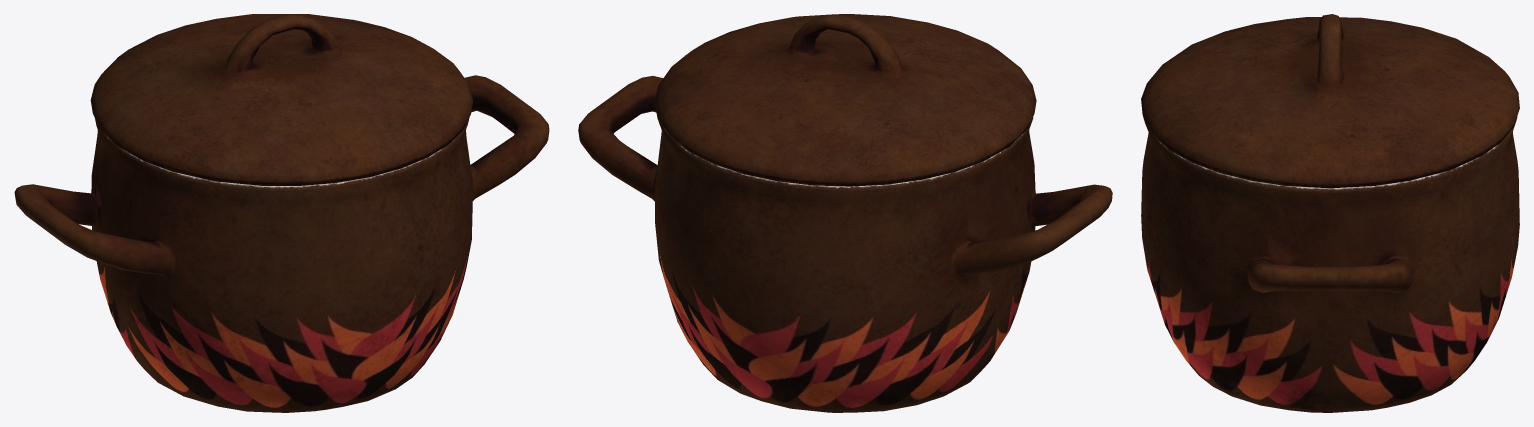
File: pot_enamel_01.fbx
The picture shows the model from 3 angles, left to right: view 1: azimuth 30°, elevation 25°; view 2: azimuth 150°, elevation 25°; view 3: azimuth 270°, elevation 25°; orthographic projection.
Visible parts, largest first — view 1: pot_enamel_01_LOD0; view 2: pot_enamel_01_LOD0; view 3: pot_enamel_01_LOD0.
Boxes of the visible parts, box(x1,y1,x2,y2) form: pot_enamel_01_LOD0: box(14, 14, 549, 412); pot_enamel_01_LOD0: box(578, 14, 1112, 412); pot_enamel_01_LOD0: box(1141, 14, 1519, 412).
Size of what is drawn, in the model's own units: 26.26 by 17.82 by 18.04.
1 material, 1 textured.
